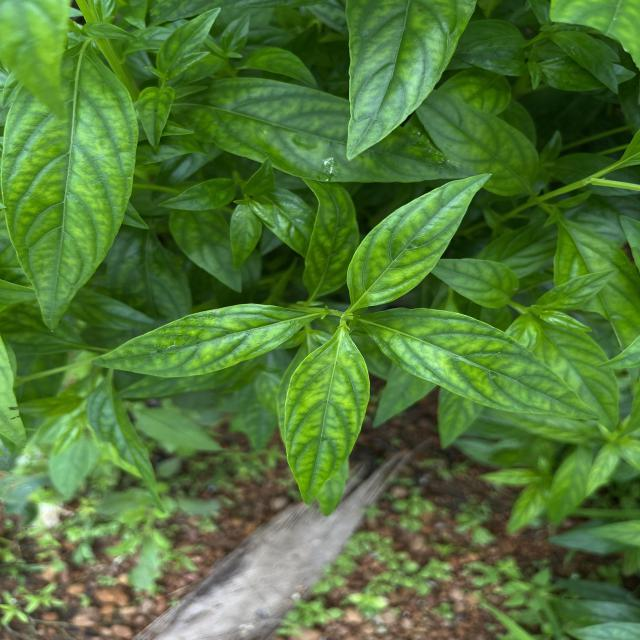Andrographis paniculata: (0, 44, 142, 334), (179, 76, 472, 182), (354, 308, 603, 422), (344, 170, 494, 308), (86, 302, 307, 380), (281, 332, 371, 507), (417, 86, 542, 196), (300, 176, 362, 302), (228, 202, 262, 270)
